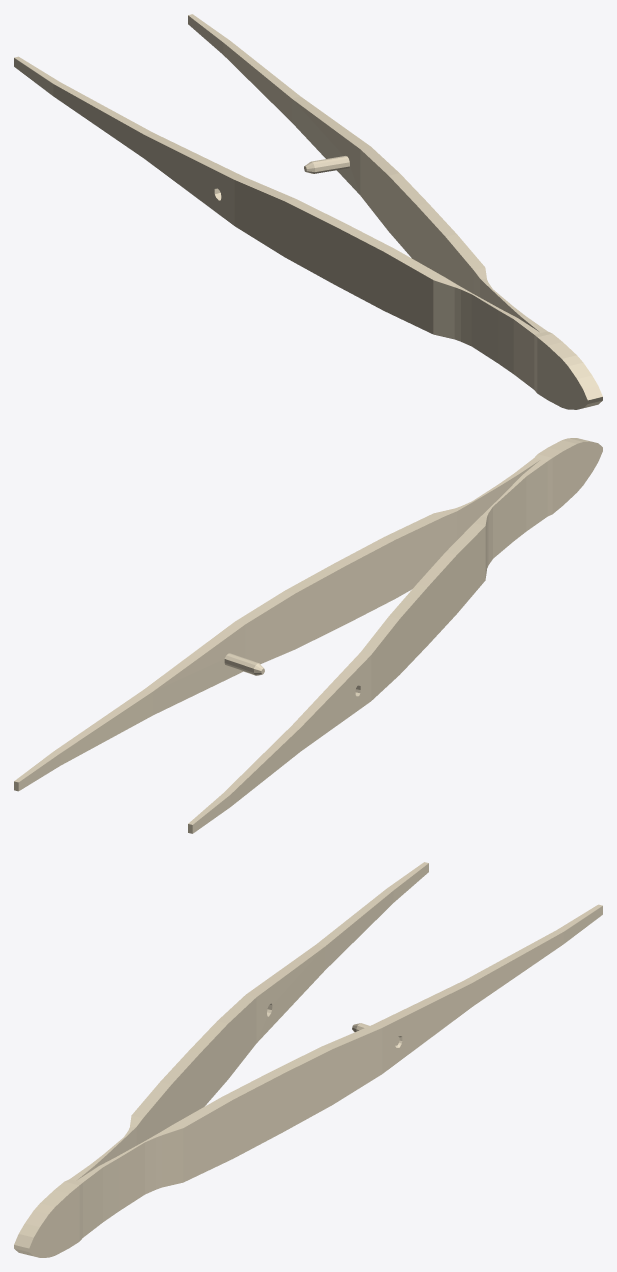
Rendered from PincettKloMcIndoe15.fbx.
3 views of the same model, one above another, from view 1: azimuth 30°, elevation 25°; view 2: azimuth 150°, elevation 25°; view 3: azimuth 330°, elevation 25° (orthographic).
Visible parts, largest first — view 1: Cube; view 2: Cube; view 3: Cube.
Boxes of the visible parts, x1=… form: Cube: x1=14, y1=14, x2=602, y2=409; Cube: x1=14, y1=438, x2=602, y2=833; Cube: x1=14, y1=862, x2=602, y2=1257.
Size of the model in its own units: 48.64 by 15.37 by 232.
